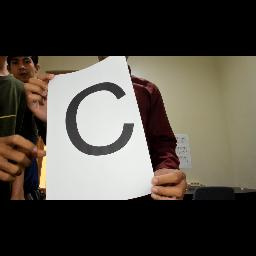c: (61, 77, 141, 161)
